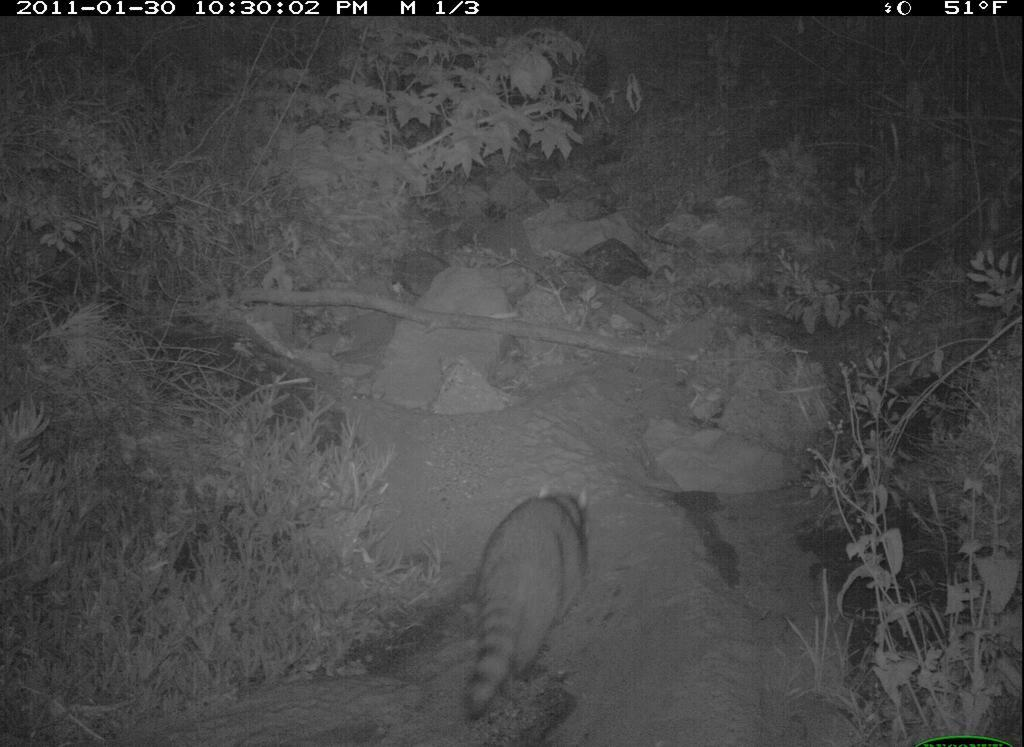raccoon: (455, 452, 600, 731)
